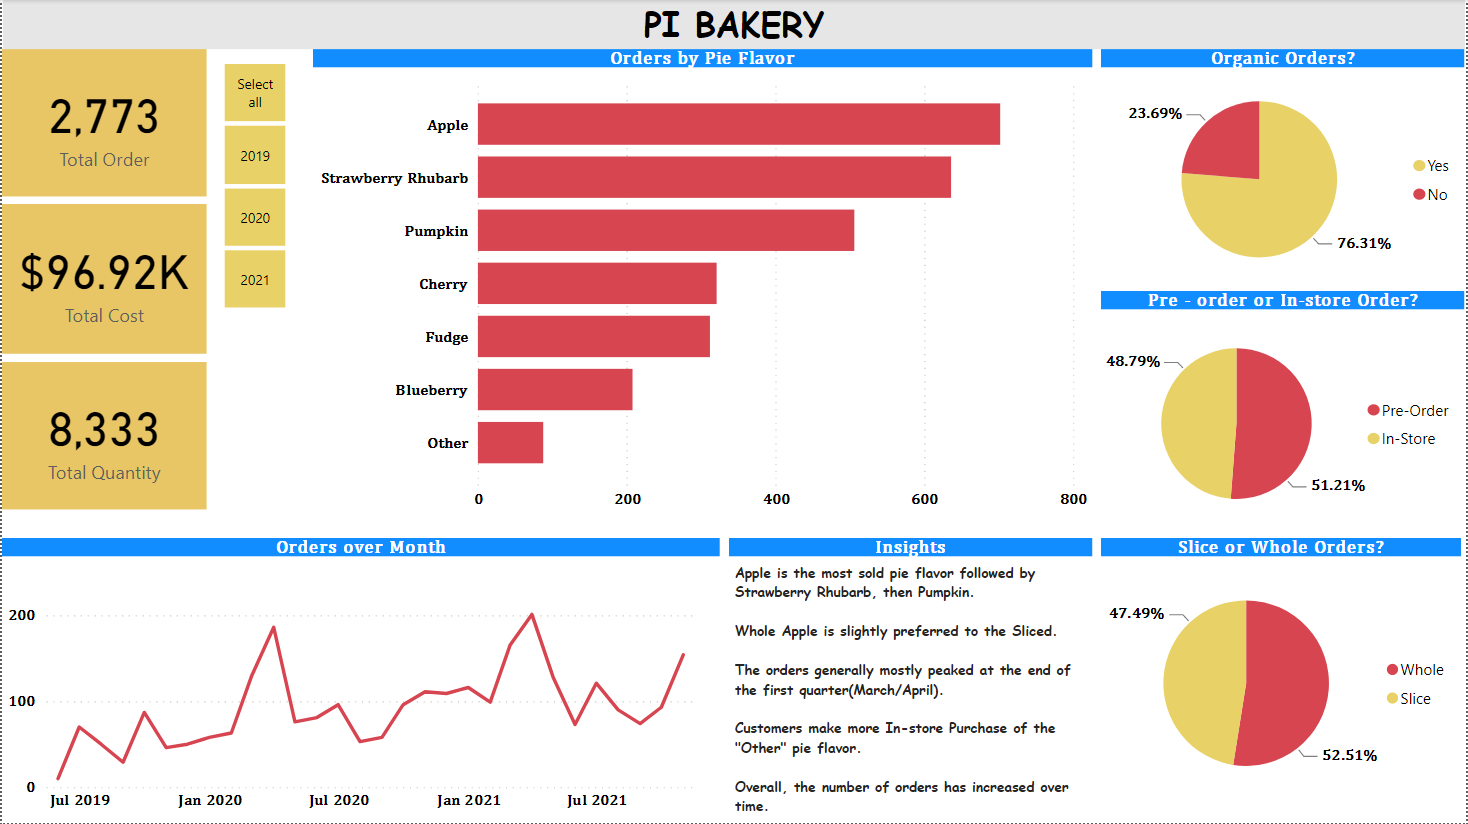

The page's visual inventory and layout, read from the dashboard file:
{"tool":"powerbi","page":{"name":"Onyx March Challenge","canvas":[1280,720],"ordinal":0},"visuals":[{"type":"card","fields":{"Values":["Onyx_Data.Total Order"]},"box":[0,42.9,179.3,129.5],"z":0},{"type":"card","fields":{"Values":["Onyx_Data.Total Cost"]},"box":[0,178.5,179.3,131.2],"z":1000},{"type":"card","fields":{"Values":["Onyx_Data.Total Quantity"]},"box":[0,316.7,179.3,129.5],"z":2000},{"type":"pieChart","title":"Organic Orders?","fields":{"Category":["Onyx_Data.Organic?"],"Y":["Onyx_Data.Total Order"]},"box":[961.5,42.9,318.4,211.7],"z":3000},{"type":"pieChart","title":"Pre - order or In-store Order?","fields":{"Y":["Onyx_Data.Total Order"],"Category":["Onyx_Data.Pre-Order/In-Store Purchase"]},"box":[961.5,254.6,318.4,216.1],"z":4000},{"type":"pieChart","title":"Slice or Whole Orders?","fields":{"Y":["Onyx_Data.Total Order"],"Category":["Onyx_Data.Slice Or Whole Pie"]},"box":[961.5,470.7,314.9,238],"z":5000},{"type":"lineChart","title":"Orders over Month","fields":{"Y":["Onyx_Data.Total Order"],"Category":["Onyx_Data.Start Of the month"]},"box":[0,470.7,628.1,244.1],"z":6000},{"type":"slicer","fields":{"Values":["Onyx_Data.year"]},"box":[168.8,49,103.2,227.5],"z":7000},{"type":"barChart","title":"Orders by Pie Flavor","fields":{"Category":["Onyx_Data.Pie Flavor"],"Y":["Onyx_Data.Total Order"]},"box":[272.1,42.9,681.5,407.7],"z":8000},{"type":"textbox","title":"PI BAKERY","box":[0.9,0,1279,42.9],"z":9000},{"type":"textbox","title":"Insights","box":[636,470.7,317.6,249.3],"z":10000}]}

Visuals, with their boxes in screenshot pixels (x1, y1, x2, y2), scaled from the page's 1280x720 canvas onto the 1468x824 screenshot:
card - Onyx_Data.Total Order: [left=0, top=49, right=206, bottom=197]
card - Onyx_Data.Total Cost: [left=0, top=204, right=206, bottom=354]
card - Onyx_Data.Total Quantity: [left=0, top=362, right=206, bottom=511]
"Organic Orders?" pieChart: [left=1103, top=49, right=1467, bottom=291]
"Pre - order or In-store Order?" pieChart: [left=1103, top=291, right=1467, bottom=539]
"Slice or Whole Orders?" pieChart: [left=1103, top=539, right=1464, bottom=811]
"Orders over Month" lineChart: [left=0, top=539, right=720, bottom=818]
slicer - Onyx_Data.year: [left=194, top=56, right=312, bottom=316]
"Orders by Pie Flavor" barChart: [left=312, top=49, right=1094, bottom=516]
"PI BAKERY" textbox: [left=1, top=0, right=1467, bottom=49]
"Insights" textbox: [left=729, top=539, right=1094, bottom=823]
